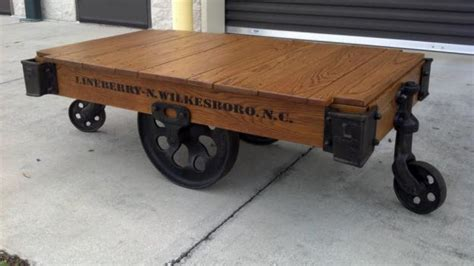Carts: (20, 28, 448, 216)
